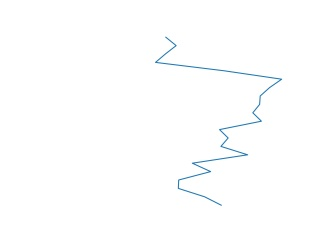floodPlain: (154, 35, 282, 209)
